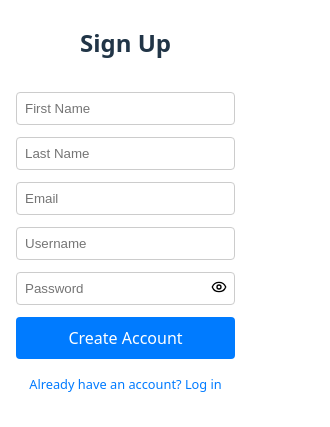
Signup › shows password length error
The width and height of the screenshot is (330, 427).
# Fill all other fields, leave password short
Type "A" into the field with placeholder "First Name".
click(126, 109); type("A")  # box [16,92,235,125]
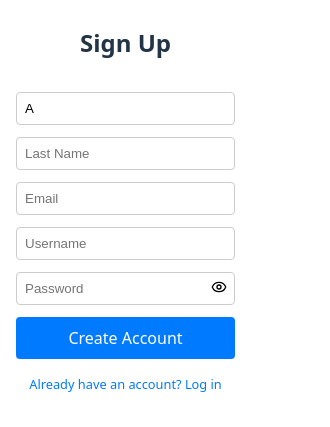
Type "B" into the field with placeholder "Last Name".
click(126, 154); type("B")  # box [16,137,235,170]
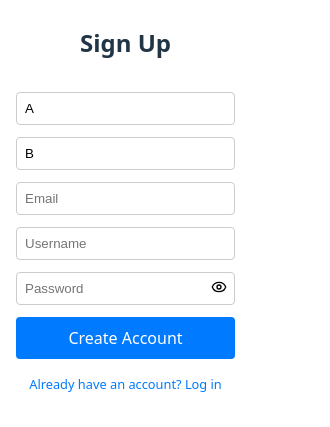
Type "a@b.com" into the field with placeholder "Email".
click(126, 199); type("a@b.com")  # box [16,182,235,215]
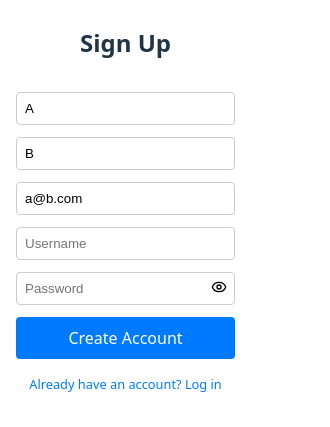
Type "u" into the field with placeholder "Username".
click(126, 244); type("u")  # box [16,227,235,260]
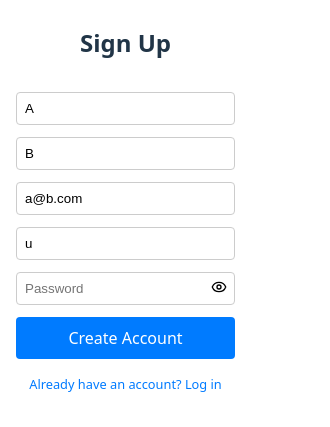
Type "123" into the password field with placeholder "Password".
click(126, 289); type("123")  # box [16,272,235,305]
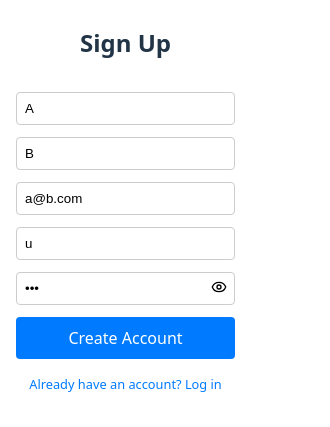
Click the button "Create Account".
click(126, 338)  # box [16,317,235,359]
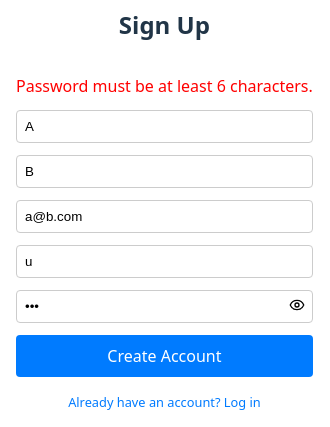
Expected: the text "Password must be at least 6 characters." is shown, [16,74,313,98]
